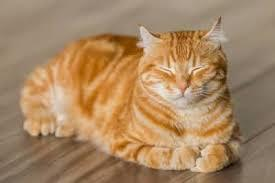animals: (19, 17, 247, 172)
